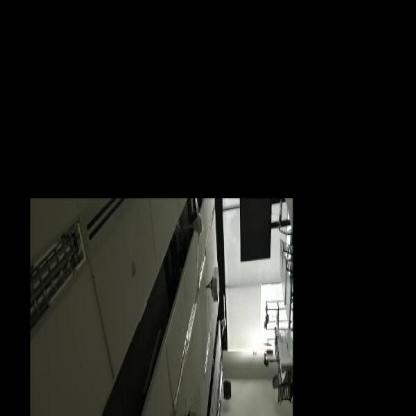light_off: (31, 214, 88, 343), (164, 320, 195, 415), (195, 245, 208, 291)
